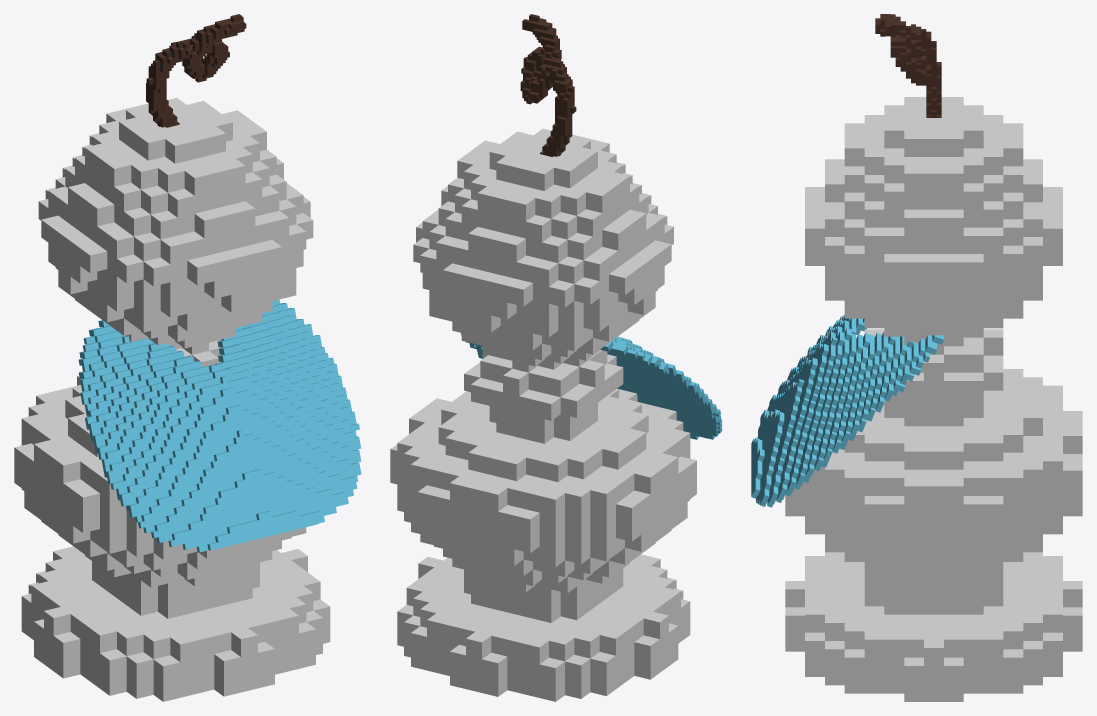
Rendered from TMPBABYFIX.fbx.
3 renders of one model, left to right at view 1: azimuth 30°, elevation 25°; view 2: azimuth 150°, elevation 25°; view 3: azimuth 270°, elevation 25°, orthographic. The views are drawn at different scales.
Visible parts, largest first — view 1: Baby; view 2: Baby; view 3: Baby.
Part boxes in pixels (box(x1,y1,x2,y2)): Baby: box(14, 14, 361, 701); Baby: box(390, 14, 722, 701); Baby: box(751, 14, 1082, 701).
Bounding box in the file's own units: 135 × 319 × 150.
